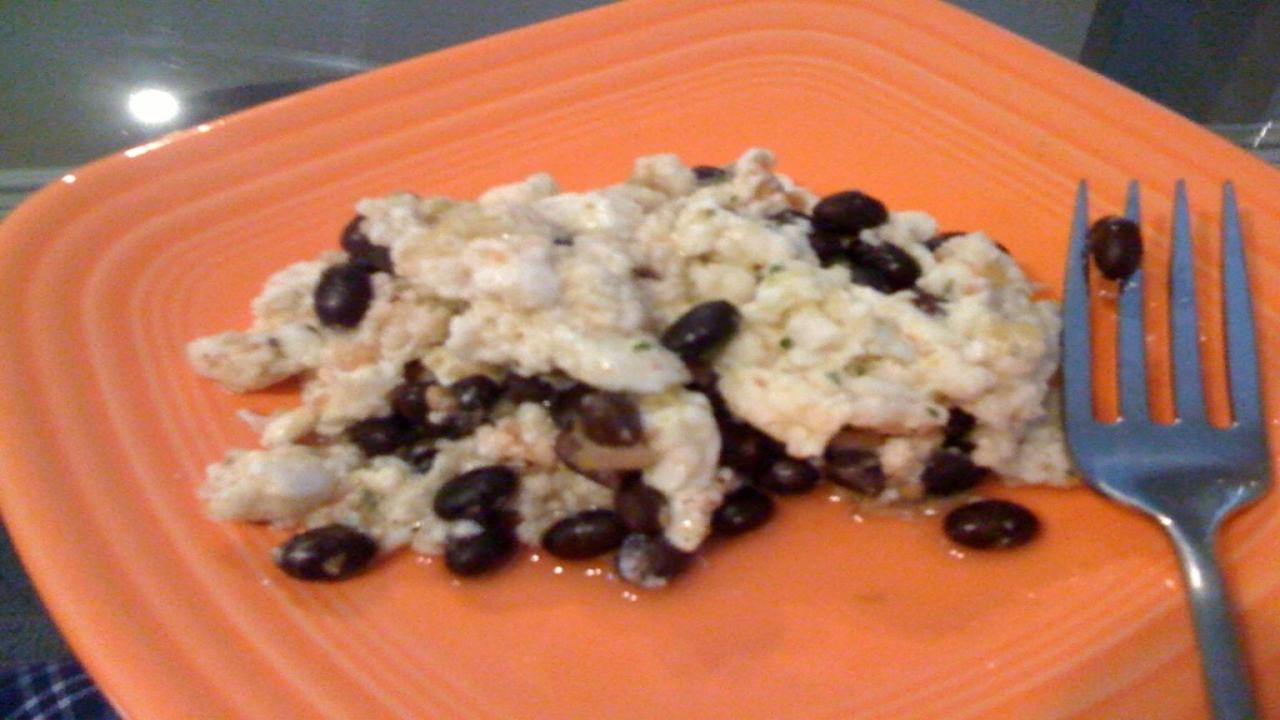fork: (1053, 171, 1280, 720)
